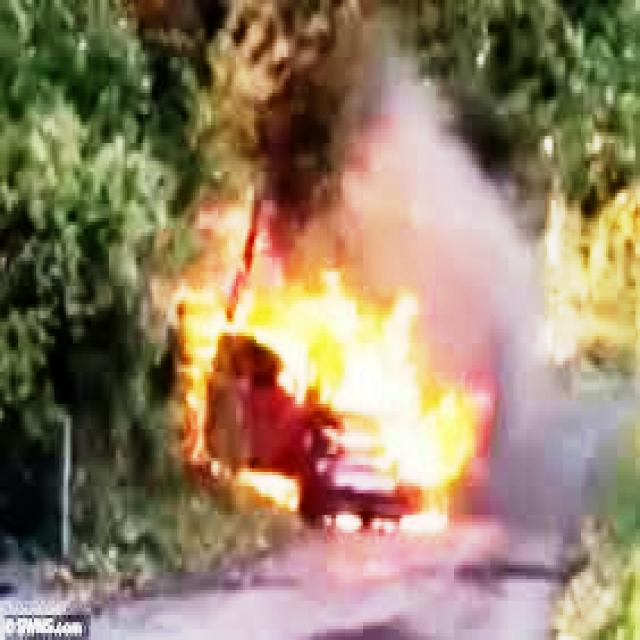api: (176, 287, 498, 562)
